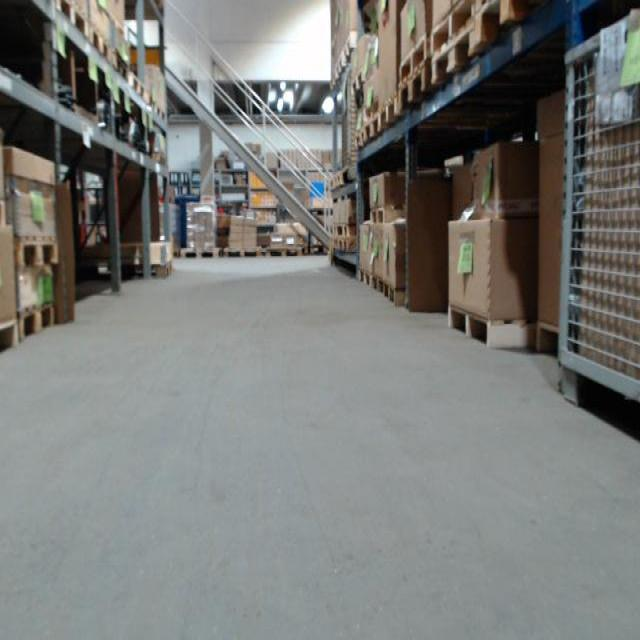pallet: (440, 304, 537, 352), (433, 17, 478, 95), (476, 0, 534, 52), (398, 57, 434, 116), (16, 300, 57, 345), (16, 235, 59, 269), (56, 0, 89, 38), (535, 320, 565, 359), (89, 26, 111, 65), (370, 203, 408, 224), (379, 96, 398, 132), (180, 245, 223, 259), (264, 246, 305, 259), (365, 110, 380, 145), (129, 71, 147, 100), (383, 284, 407, 305), (223, 247, 263, 259), (371, 275, 385, 295), (155, 104, 168, 123), (358, 269, 372, 286)
stillage: (553, 5, 640, 448)
